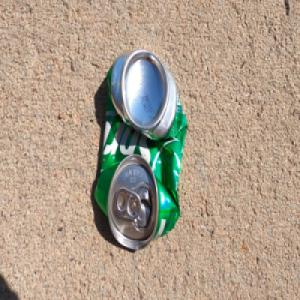SodaCan: (92, 46, 189, 253)
